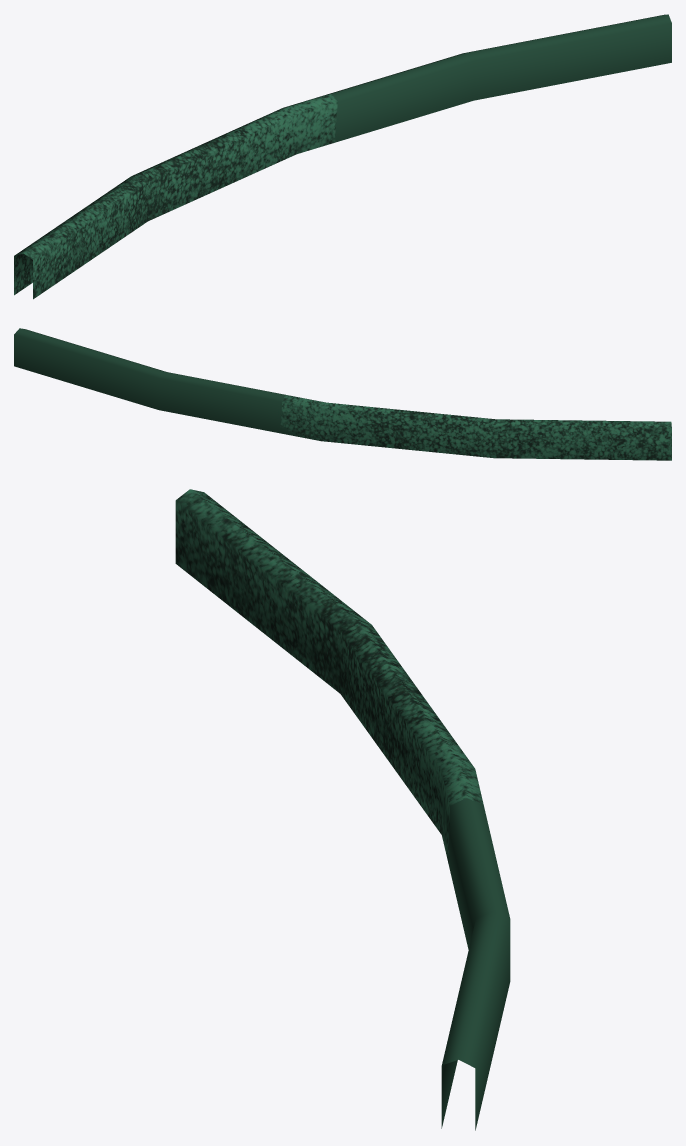
Rendered from Ring62.fbx.
The picture shows the model from 3 angles, top to bottom: view 1: azimuth 30°, elevation 25°; view 2: azimuth 150°, elevation 25°; view 3: azimuth 270°, elevation 25°; orthographic projection. The views are drawn at different scales.
Visible parts, largest first — view 1: Ring62; view 2: Ring62; view 3: Ring62.
Boxes of the visible parts, x1,y1,x2,y2 form: Ring62: (14, 14, 671, 299); Ring62: (14, 328, 671, 460); Ring62: (175, 489, 510, 1130).
Bounding box in the file's own units: 6997 × 400 × 1717.
